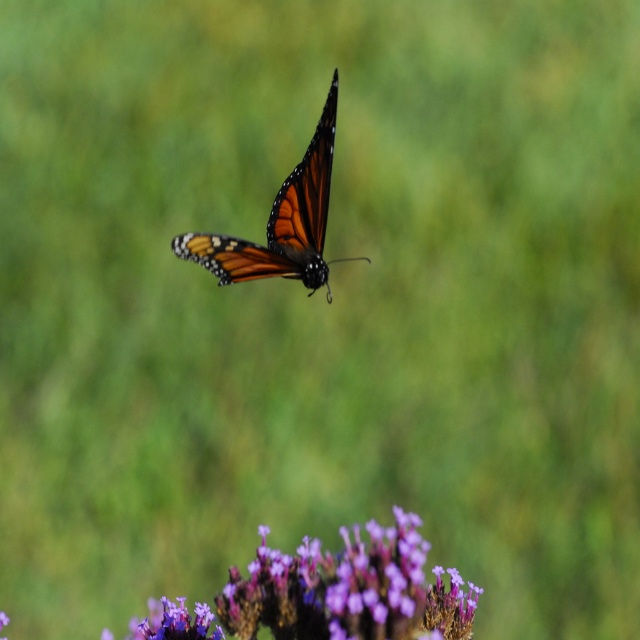Butterfly: (173, 65, 372, 302)
